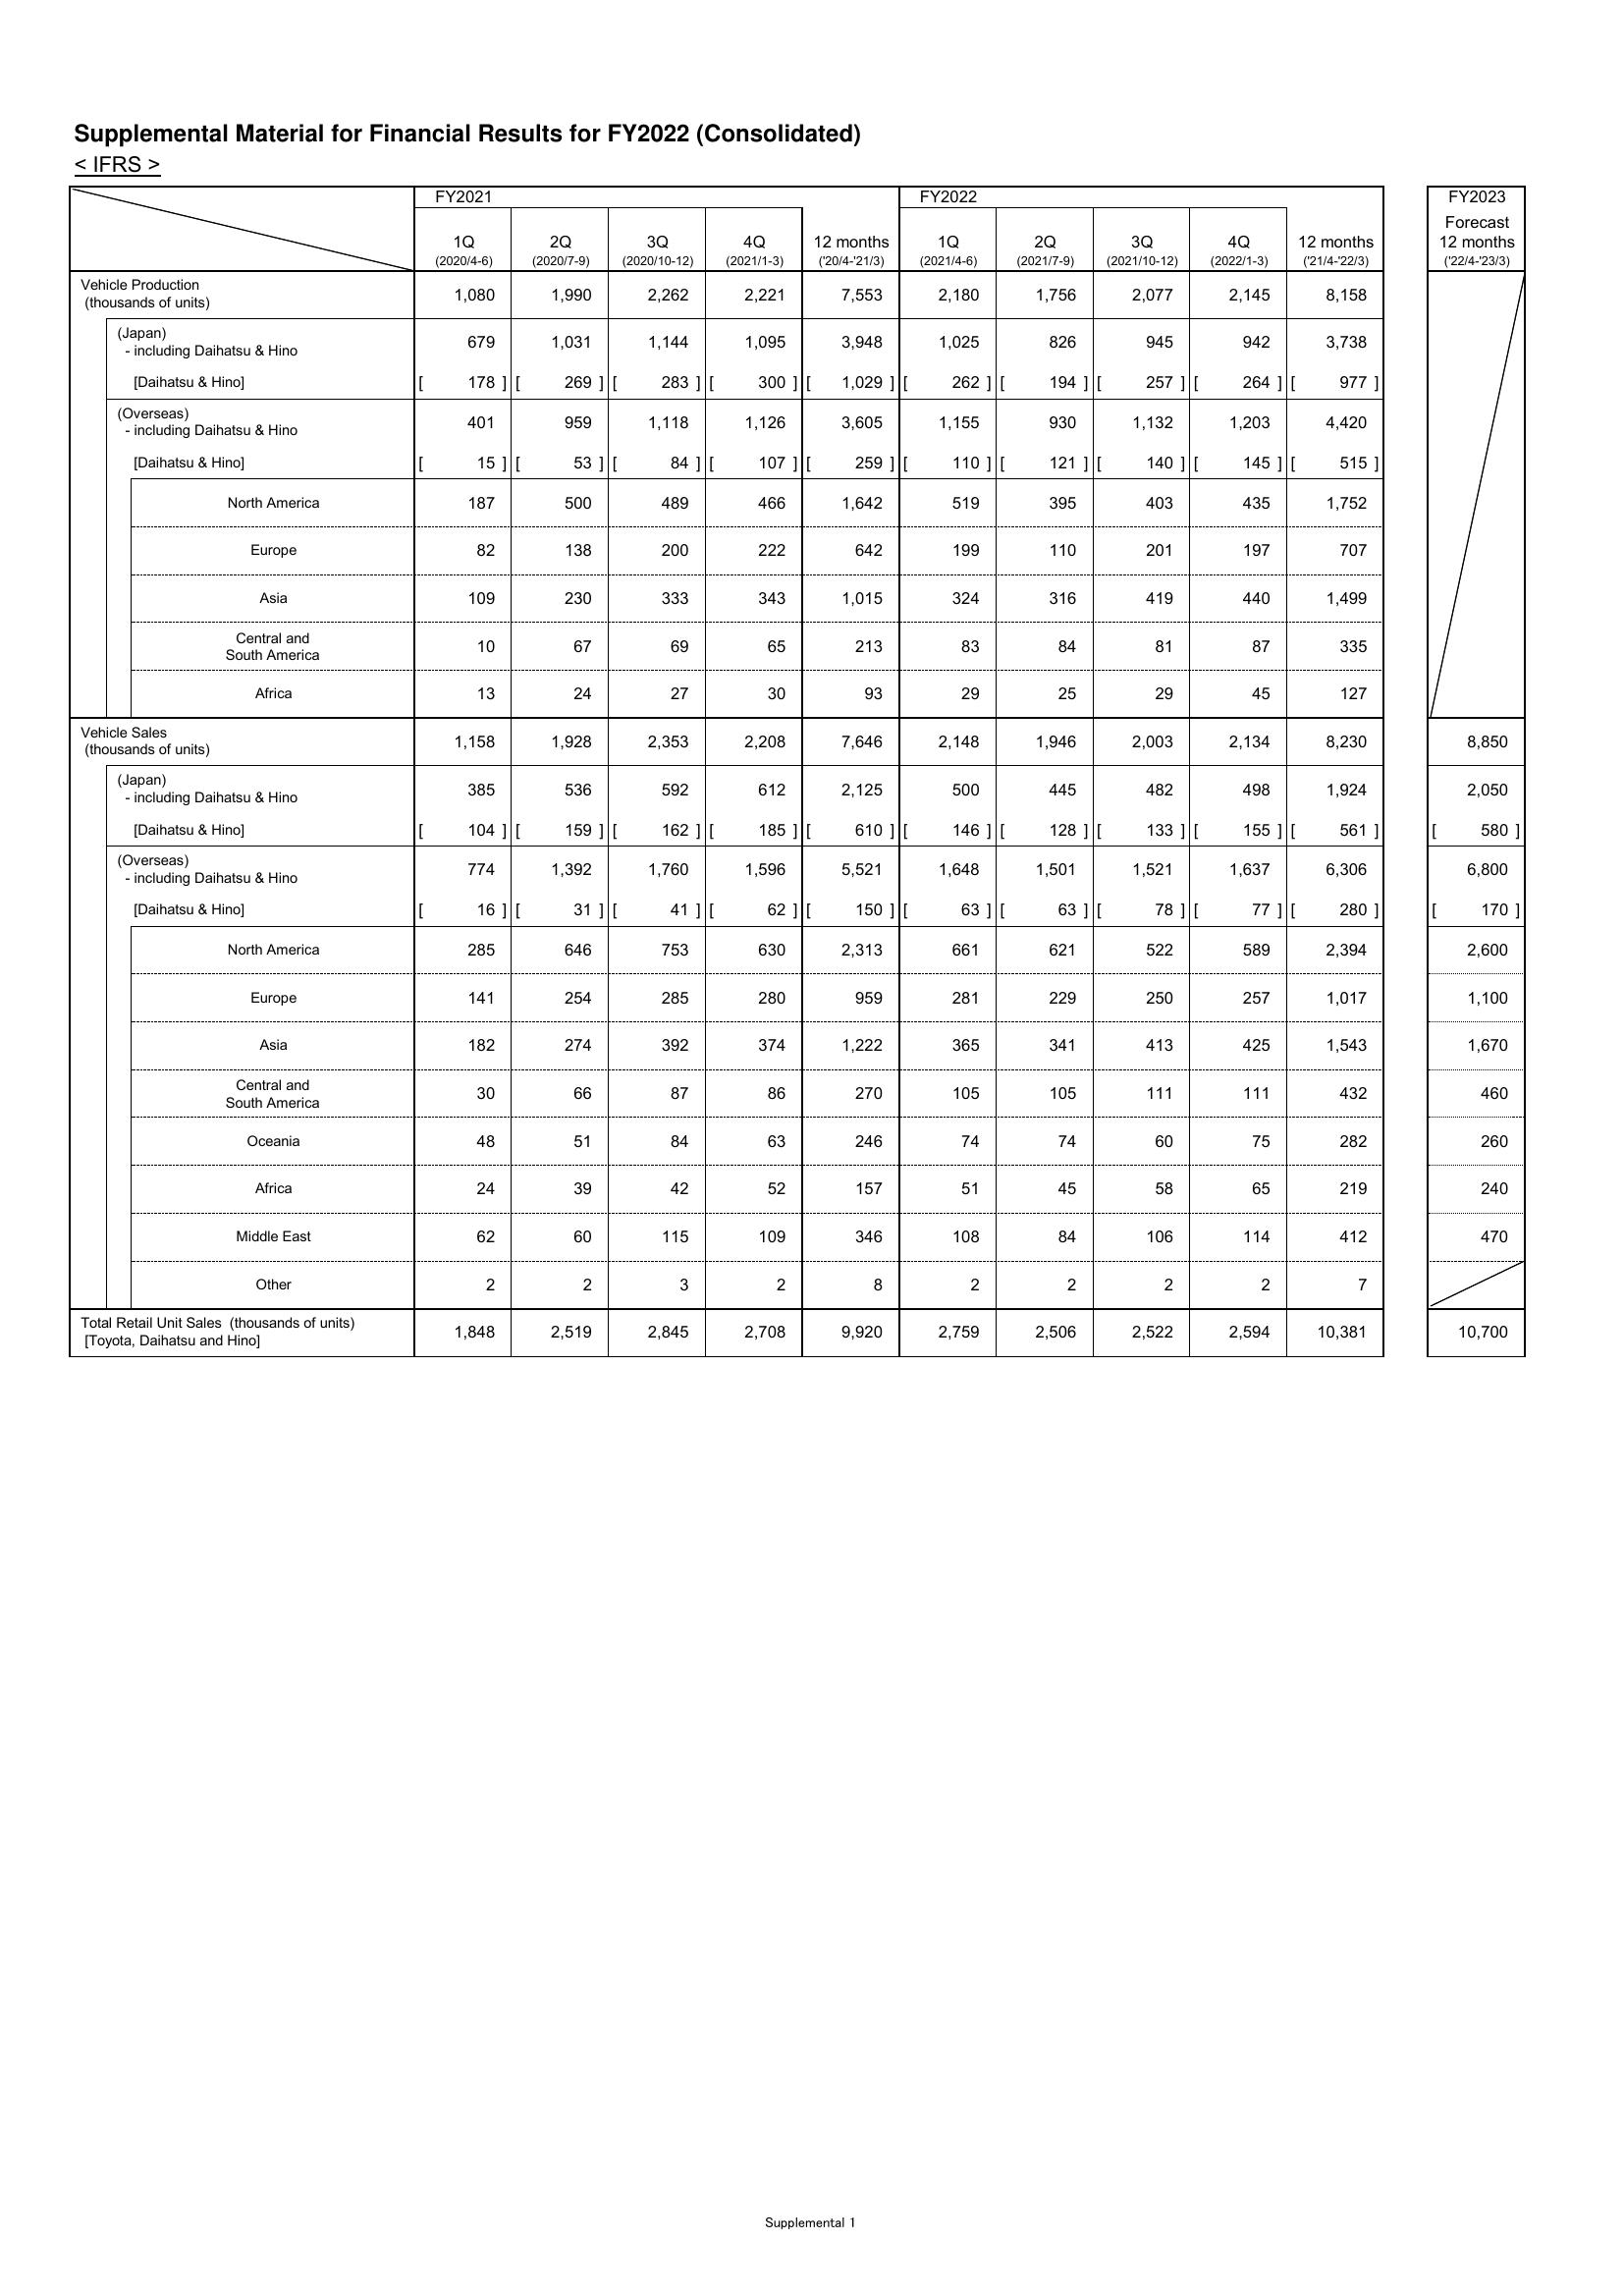Footer: (0, 2175, 1624, 2296)
Header: (0, 0, 1624, 98)
Table: (16, 165, 1541, 1401)
